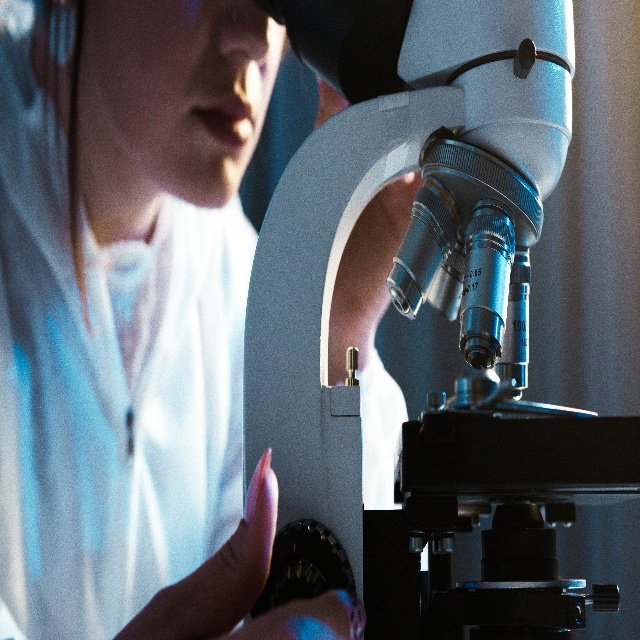Sin_guantes: (110, 451, 369, 640)
